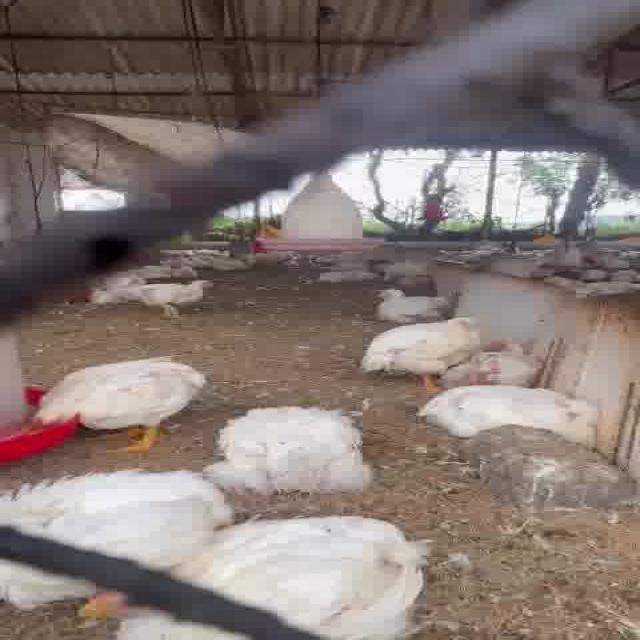AbNormal: (106, 512, 445, 640), (4, 468, 243, 607), (202, 398, 384, 492), (415, 382, 601, 443), (454, 342, 558, 385), (374, 284, 479, 326)
Normal: (22, 344, 217, 449), (372, 309, 482, 372), (118, 272, 246, 320)
